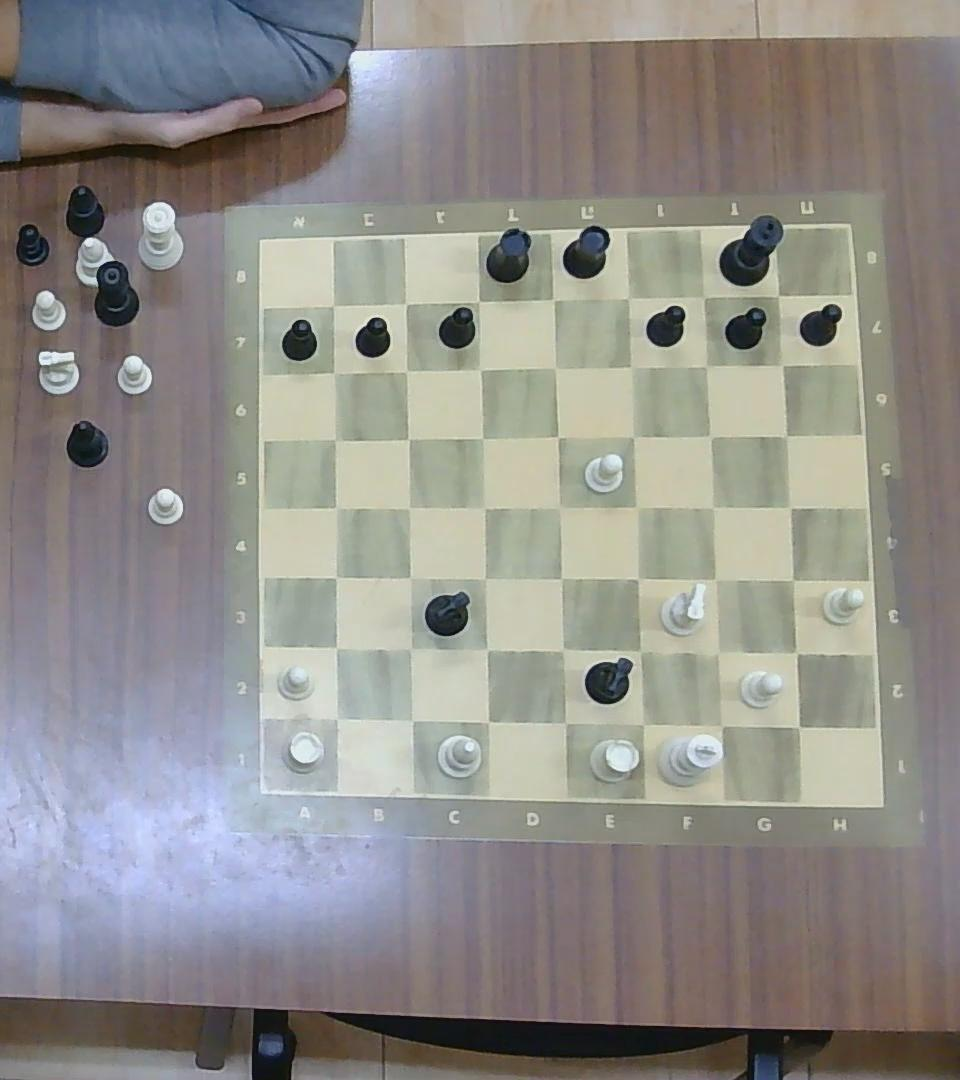xcorner: (624, 705, 659, 739), (702, 707, 738, 740), (781, 710, 815, 743), (701, 636, 734, 669), (624, 635, 656, 667), (548, 706, 579, 738), (470, 633, 501, 665), (471, 704, 502, 736), (780, 637, 812, 668), (396, 703, 427, 734), (320, 701, 351, 732), (394, 632, 425, 663), (622, 563, 652, 594), (547, 634, 578, 664), (547, 563, 577, 594), (700, 563, 730, 594), (470, 563, 500, 593), (698, 491, 728, 521), (320, 562, 350, 591), (320, 633, 350, 662), (776, 564, 806, 593), (622, 491, 651, 520), (395, 562, 424, 591), (776, 491, 805, 520), (545, 491, 573, 521), (470, 492, 499, 520), (467, 422, 495, 451), (616, 352, 645, 380), (543, 421, 571, 449), (393, 425, 422, 452), (322, 494, 350, 521), (619, 421, 647, 448), (540, 284, 566, 313), (395, 493, 423, 519), (696, 422, 723, 448), (393, 356, 419, 382), (541, 353, 567, 379), (615, 285, 641, 311), (693, 353, 720, 378), (322, 426, 348, 451), (467, 355, 492, 380), (393, 291, 418, 315), (773, 423, 798, 447), (466, 288, 491, 312), (691, 285, 716, 308), (770, 352, 793, 376), (767, 283, 790, 307), (322, 294, 345, 316), (323, 360, 346, 382)
